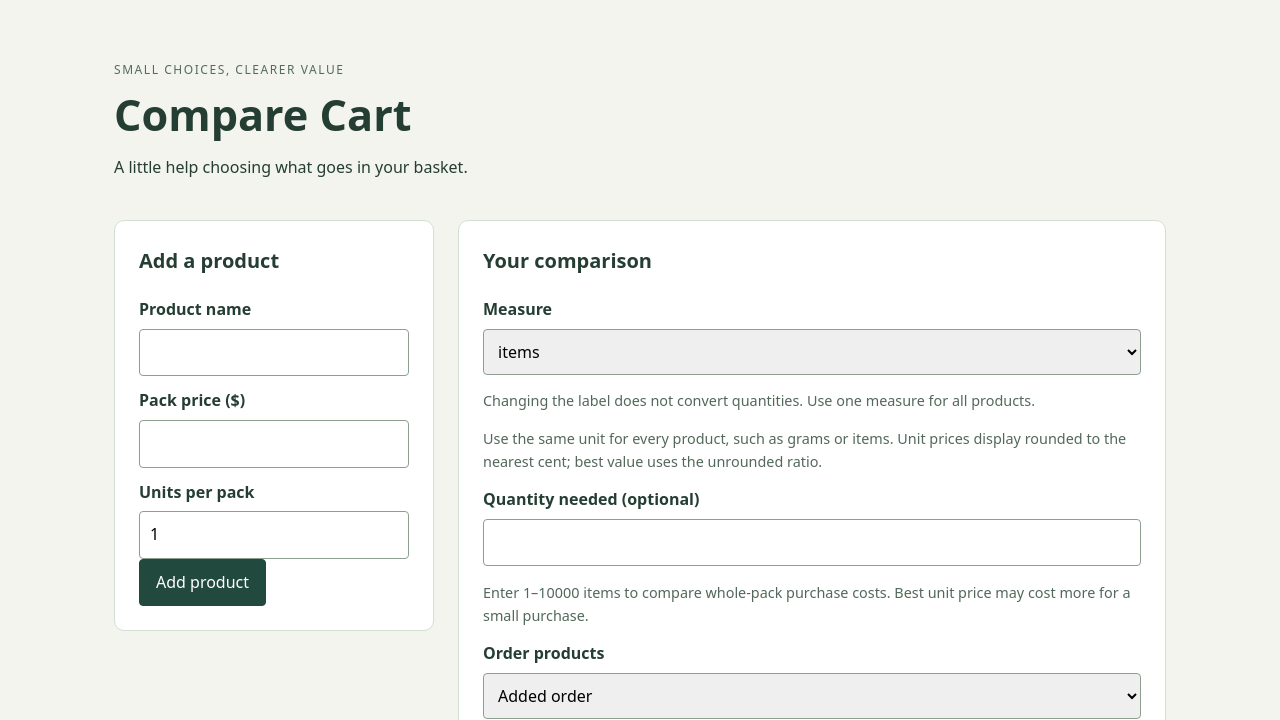
Test: rejects invalid pack sizes without changing the list
Step 1. Type "Oats" into the field labelled "Product name" → (274, 353), box left=139, top=329, right=409, bottom=376
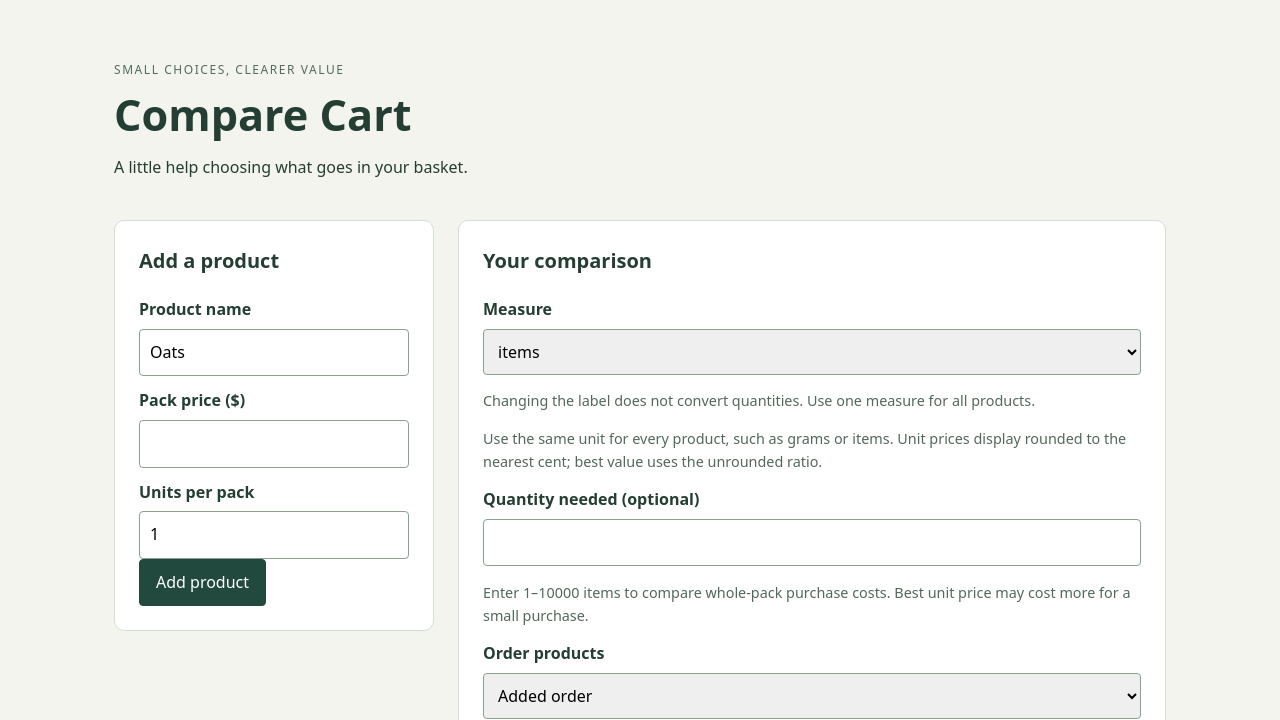
Step 2. Type "3.00" into the field labelled "Pack price ($)" → (274, 444), box left=139, top=420, right=409, bottom=468
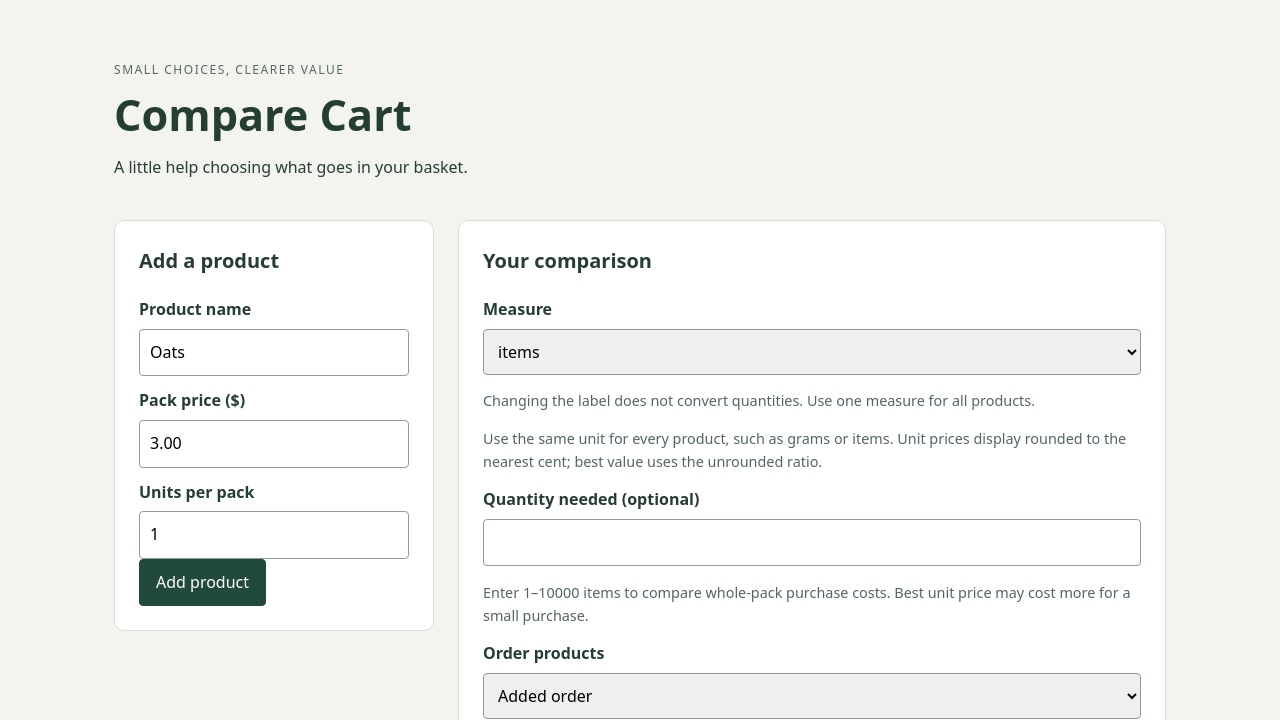
Step 3. Replace the text in the number field labelled "Units per pack" with "1.5" → (274, 535), box left=139, top=511, right=409, bottom=559
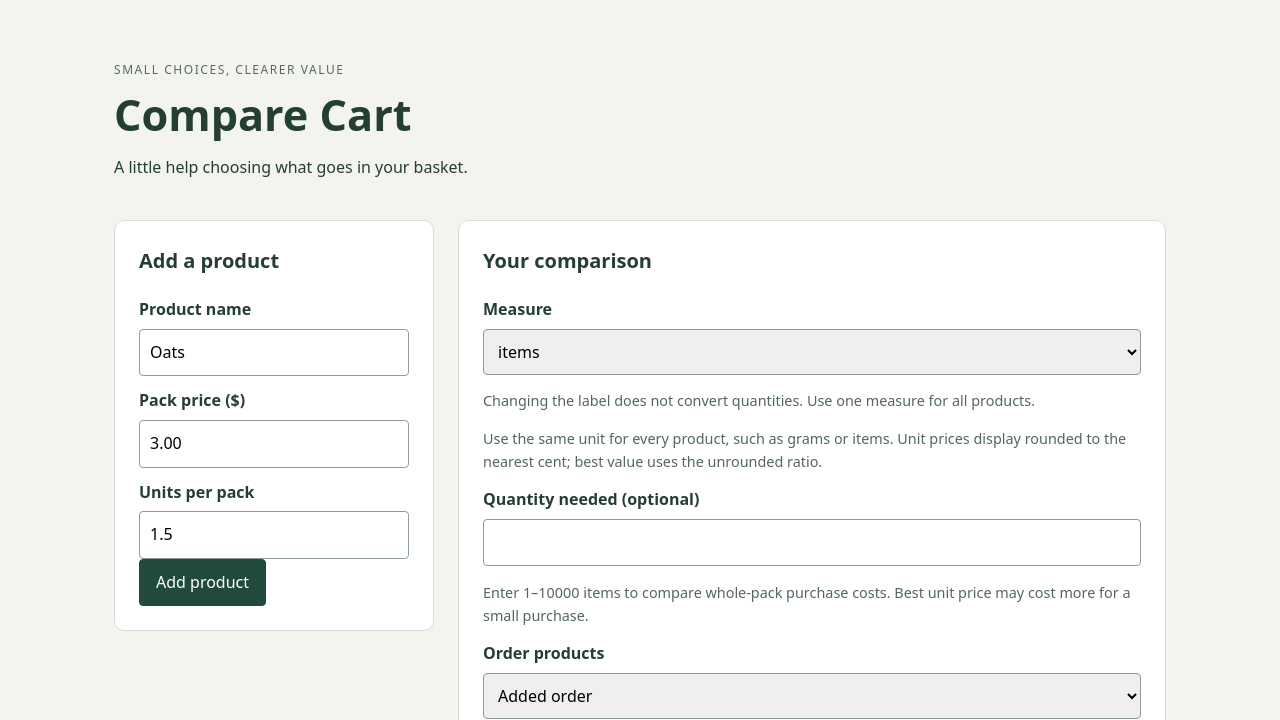
Step 4. Click the button "Add product" → (203, 583), box left=139, top=559, right=266, bottom=606
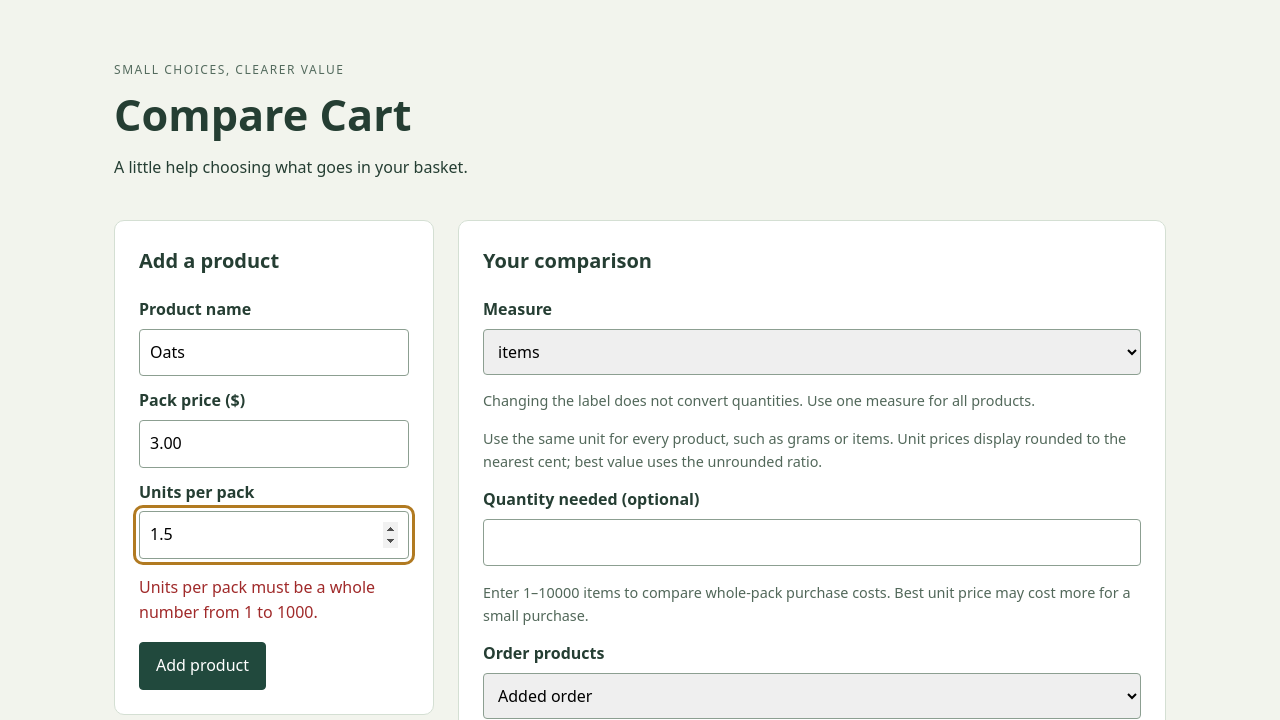
Now the message shows "whole number", box left=139, top=576, right=375, bottom=624
